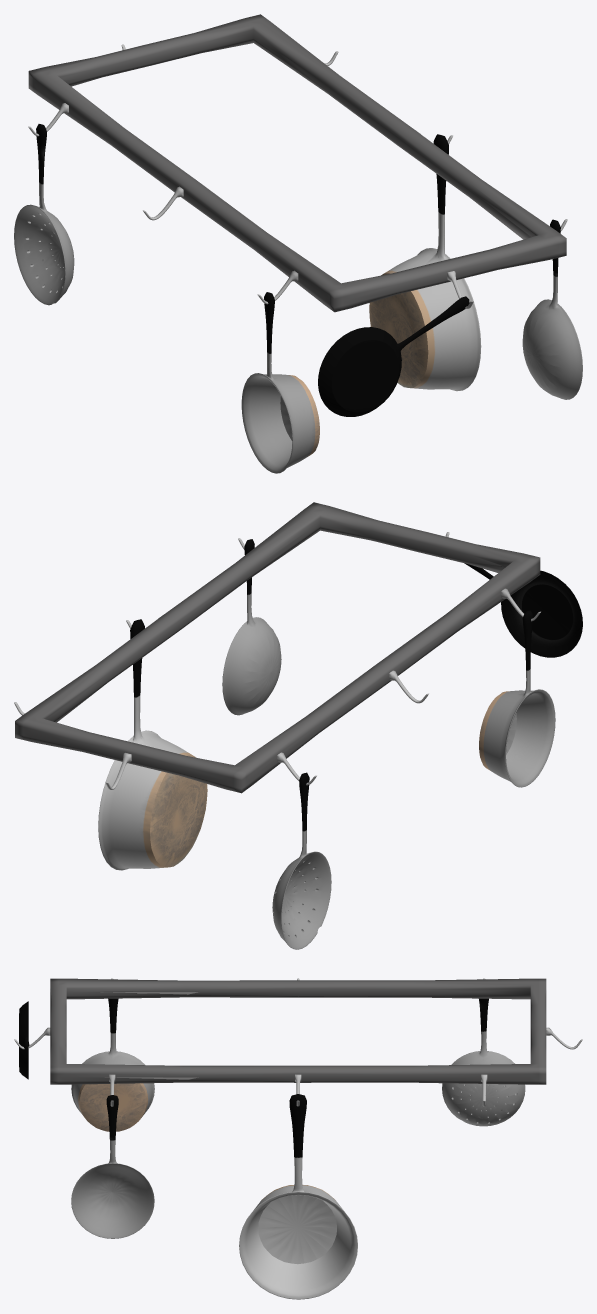
Rendered from Potholder.FBX.
The picture shows the model from 3 angles, top to bottom: view 1: azimuth 30°, elevation 25°; view 2: azimuth 150°, elevation 25°; view 3: azimuth 270°, elevation 25°; orthographic projection. The views are drawn at different scales.
Visible parts, largest first — view 1: Box001, pot001, pot, Cylinder001, pan, pan001; view 2: Box001, pot001, pot, pan, Cylinder001, pan001; view 3: Box001, pot001, pan001, pan, pot, Cylinder001.
Boxes of the visible parts, x1,y1,x2,y2 form: Box001: [28, 14, 567, 312]; pot001: [369, 134, 481, 391]; pot: [241, 292, 319, 473]; Cylinder001: [318, 296, 469, 416]; pan: [14, 124, 74, 305]; pan001: [522, 219, 582, 399]; Box001: [14, 502, 540, 793]; pot001: [98, 619, 207, 870]; pot: [479, 610, 555, 787]; pan: [272, 772, 331, 949]; Cylinder001: [464, 563, 582, 657]; pan001: [222, 539, 281, 715]; Box001: [14, 978, 582, 1106]; pot001: [239, 1094, 357, 1299]; pan001: [71, 1095, 154, 1238]; pan: [442, 998, 525, 1126]; pot: [71, 998, 154, 1131]; Cylinder001: [19, 1001, 29, 1079].
Size of the model in its own units: 62.45 by 51.48 by 122.
